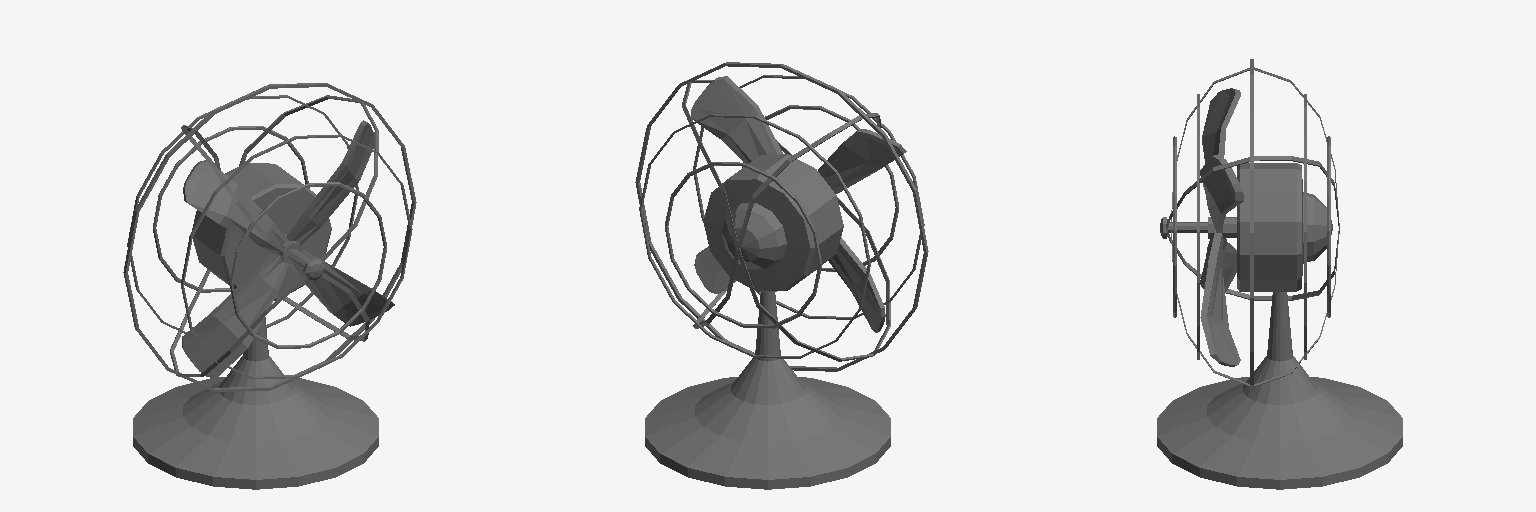
The model's file is Desk_Fan_toscale.obj.
The picture shows the model from 3 angles: view 1: azimuth 30°, elevation 25°; view 2: azimuth 150°, elevation 25°; view 3: azimuth 270°, elevation 25°; orthographic projection.
Parts seen in each view (by area): view 1: FanA_low; view 2: FanA_low; view 3: FanA_low.
Boxes of the visible parts, x1,y1,x2,y2 form: FanA_low: [123, 83, 416, 489]; FanA_low: [635, 62, 928, 489]; FanA_low: [1157, 59, 1402, 489].
Bounding box in the file's own units: 12.44 × 14.8 × 9.1.